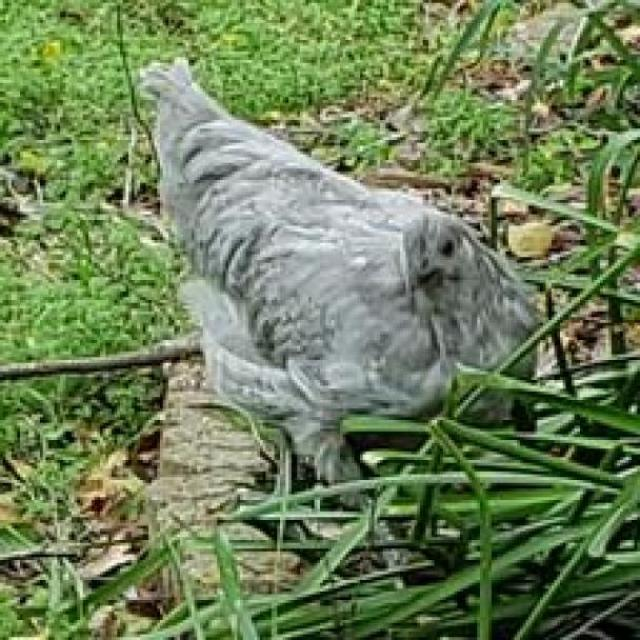Chicken: (111, 56, 550, 495)
